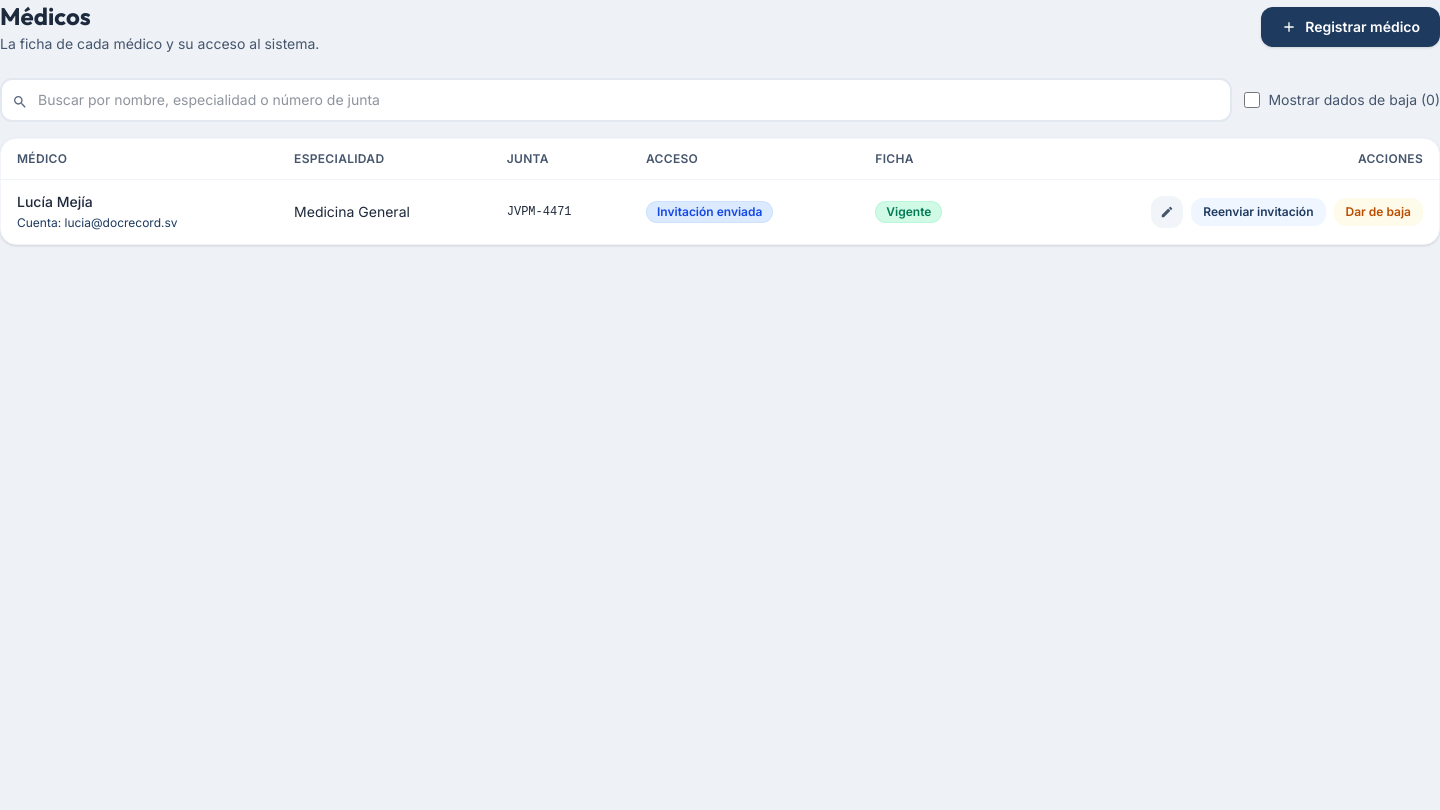
Test: médicos · el acceso › a una cuenta sin activar le reenvía la invitación a su correo, que se puede corregir
expect the text "Lucía Mejía" is shown: met, box 17,193 -> 93,210
Step 1. Click the button with aria-label "reenviar invitación: lucía mejía" → (1258, 212), box 1191,198 -> 1326,226
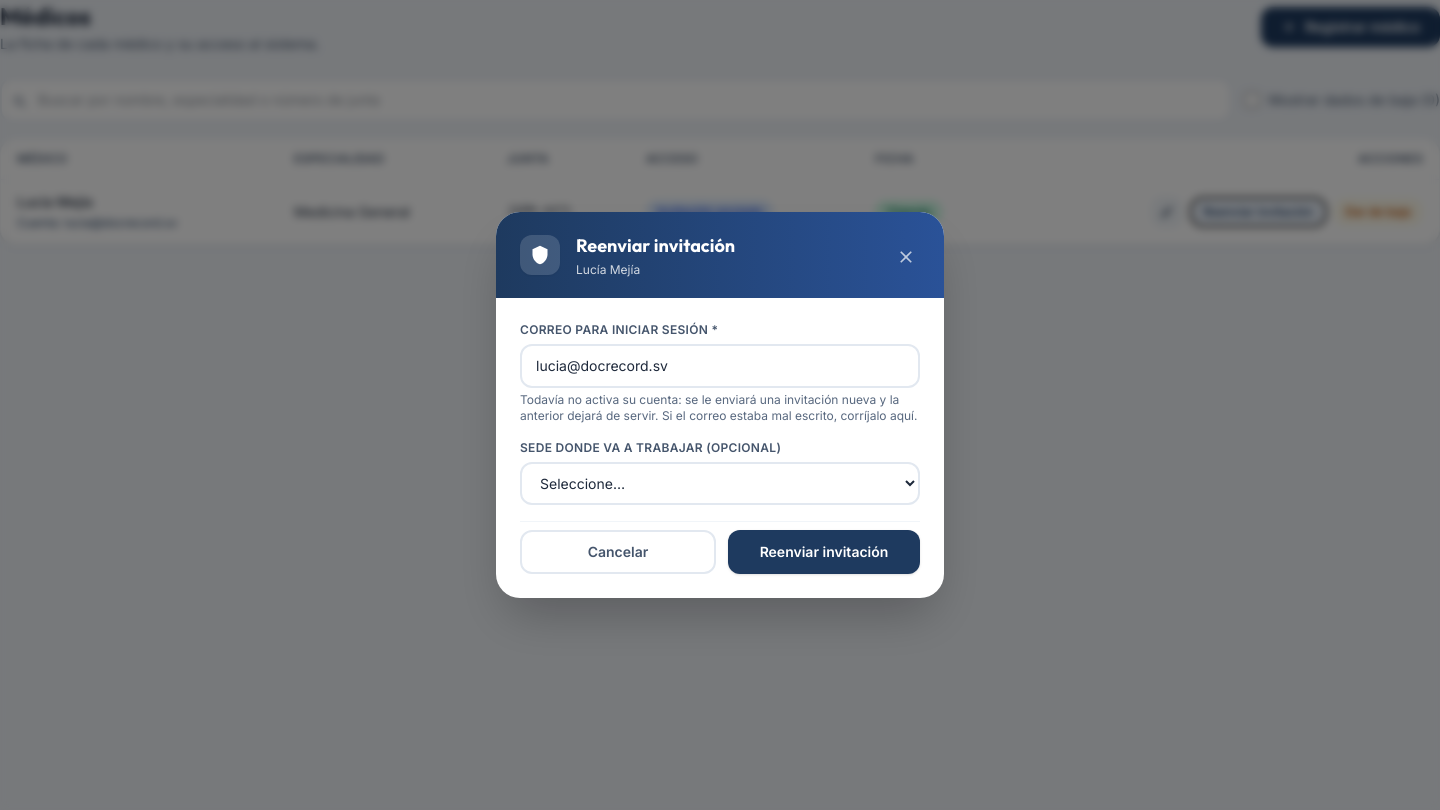
expect the field labelled "Correo para iniciar sesión *" holds "lucia@docrecord.sv": met, box 520,344 -> 920,388
Step 2. Click the button "Reenviar invitación" → (824, 552), box 728,530 -> 920,574
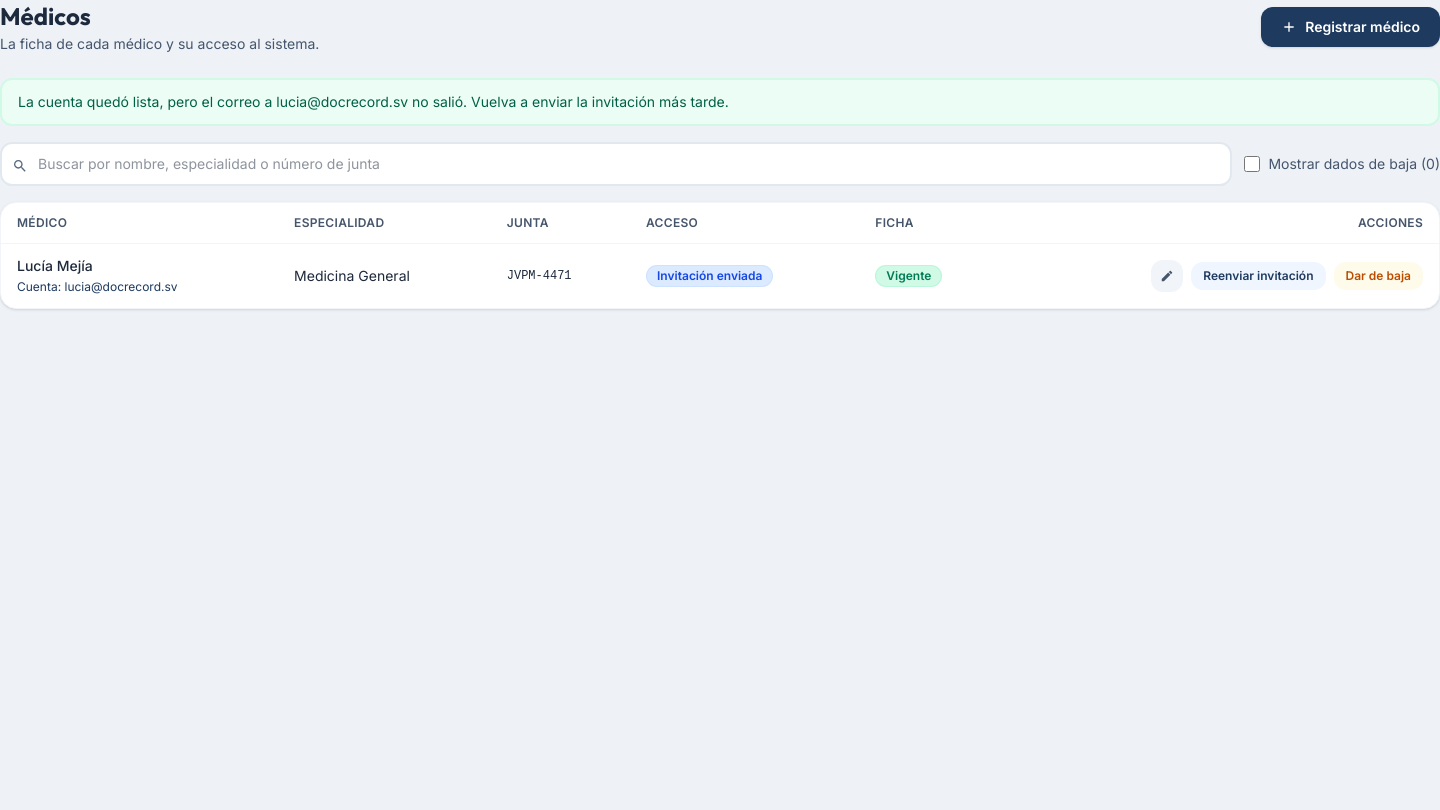
expect the message shows "no salió": met, box 18,93 -> 729,110
